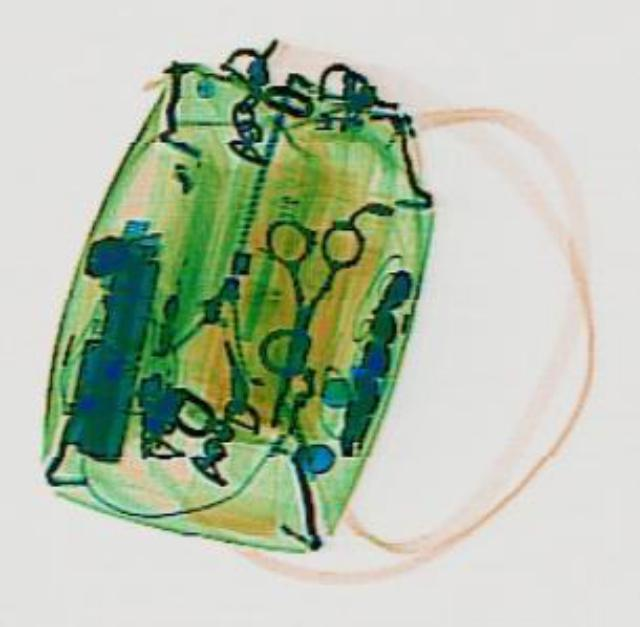Scissors: (220, 204, 366, 431)
